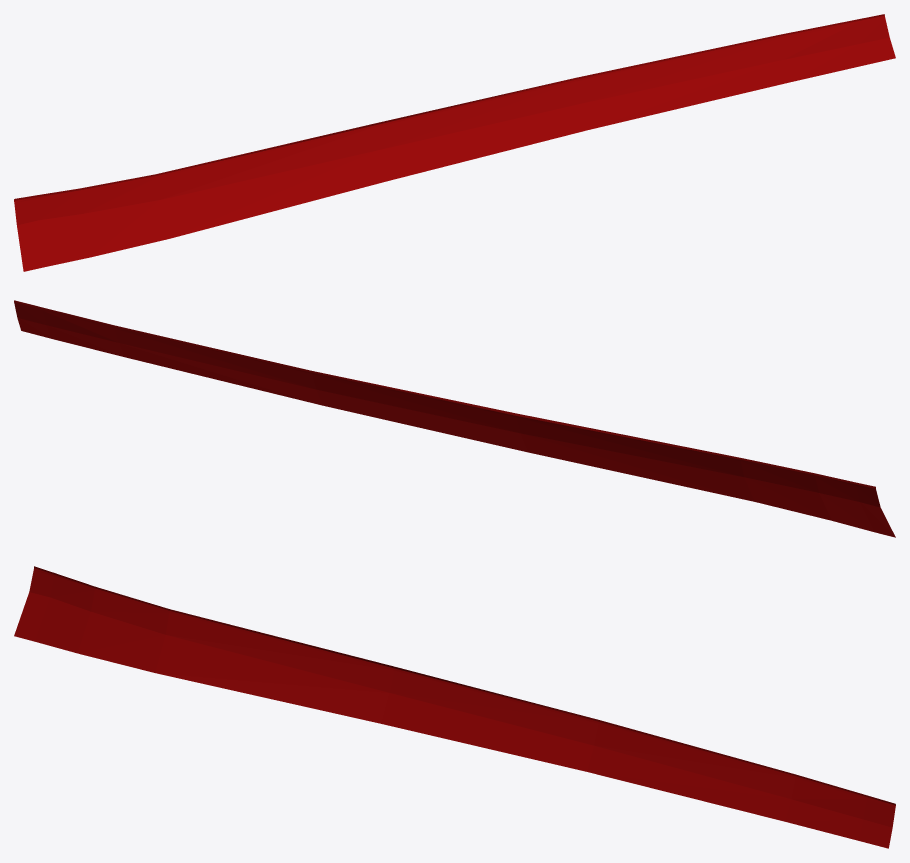
Rendered from skirt1.002.dae.
3 views of the same model, one above another, from view 1: azimuth 30°, elevation 25°; view 2: azimuth 150°, elevation 25°; view 3: azimuth 330°, elevation 25° (orthographic).
Visible parts, largest first — view 1: skirt1; view 2: skirt1; view 3: skirt1.
Boxes of the visible parts, <box> form: skirt1: <box>14,14,895,271</box>; skirt1: <box>14,300,895,537</box>; skirt1: <box>14,566,895,848</box>.
Size of the model in its own units: 220 by 8.64 by 15.29.
